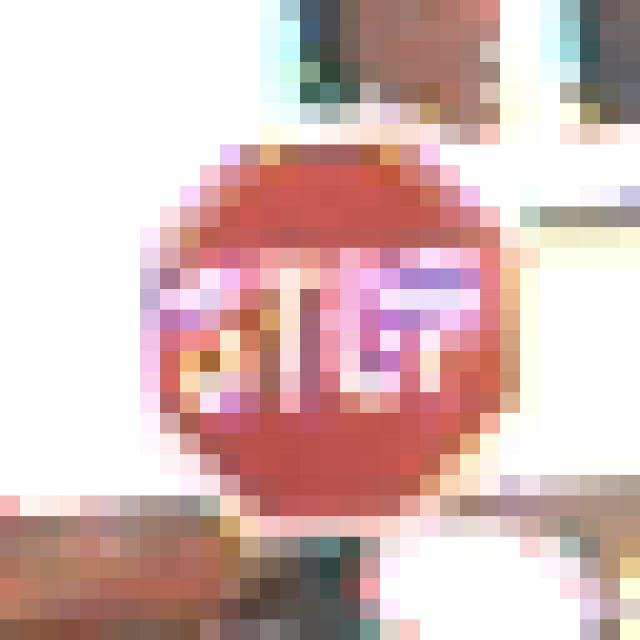STOP: (121, 104, 541, 538)
